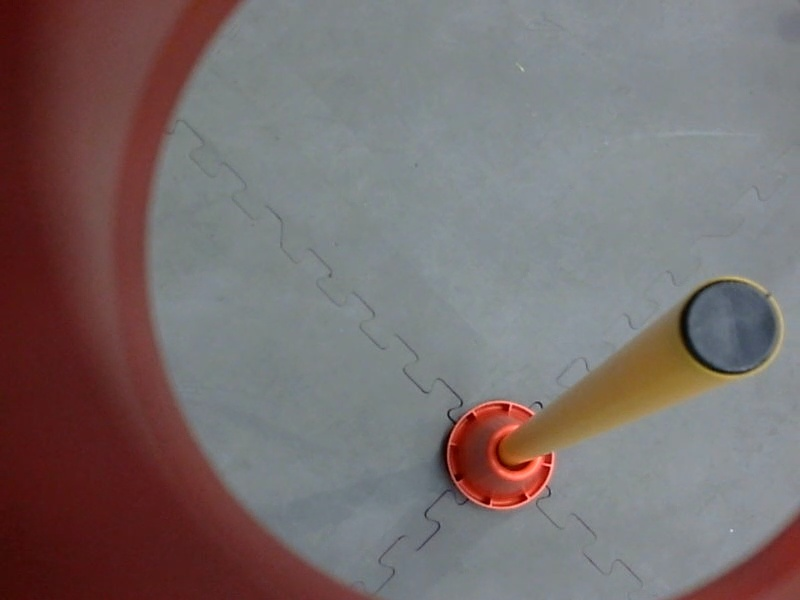tip: (669, 272, 790, 387)
